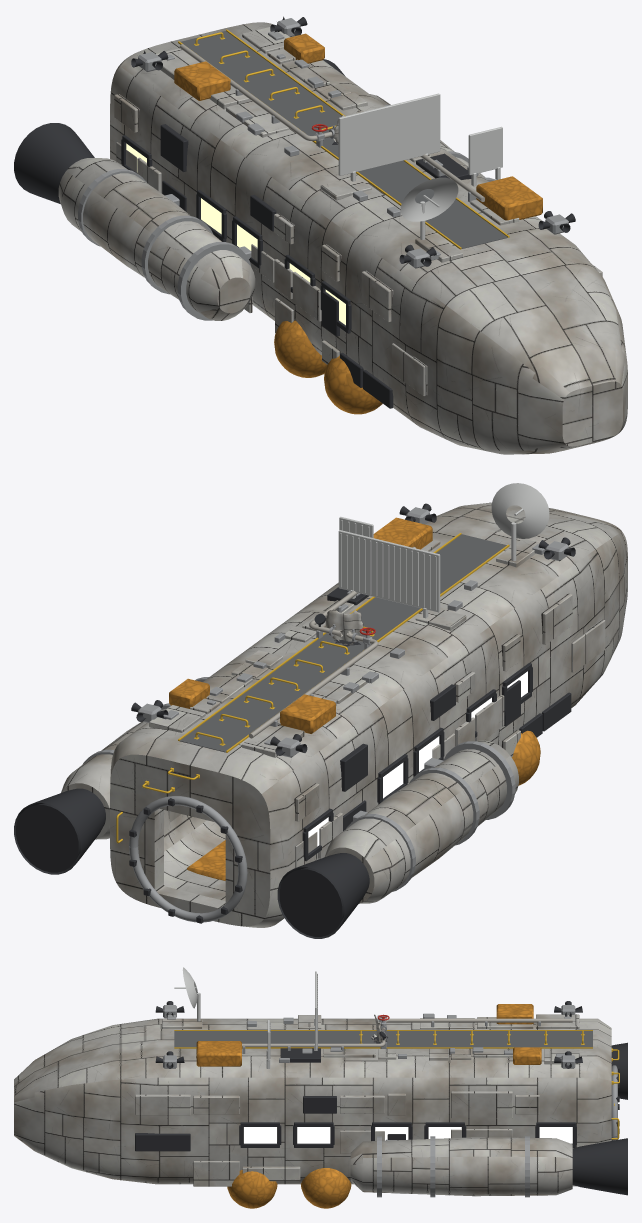
Rendered from r1_ext.glb.
The picture shows the model from 3 angles, top to bottom: view 1: azimuth 30°, elevation 25°; view 2: azimuth 150°, elevation 25°; view 3: azimuth 270°, elevation 25°; orthographic projection. The views are drawn at different scales.
Visible parts, largest first — view 1: ext_M_hull, ext_M_darkhull, ext_M_strip, ext_M_foil, cover, ext_M_steel, ext_M_rad, ext_M_pipe, ext_M_winglow, ext_M_rail; view 2: ext_M_hull, ext_M_darkhull, ext_M_strip, ext_M_steel, cover, ext_M_foil, ext_M_rad, ext_M_winglow, ext_M_pipe, ext_M_rail, shard; view 3: ext_M_hull, ext_M_darkhull, ext_M_strip, ext_M_foil, ext_M_steel, ext_M_winglow, ext_M_pipe, ext_M_rail, ext_M_rad.
Boxes of the visible parts, bbox=[...] form: ext_M_hull: bbox=[58, 22, 627, 454]; ext_M_darkhull: bbox=[14, 16, 575, 408]; ext_M_strip: bbox=[180, 31, 507, 248]; ext_M_foil: bbox=[174, 33, 542, 414]; cover: bbox=[338, 93, 440, 181]; ext_M_steel: bbox=[78, 18, 568, 320]; ext_M_rad: bbox=[400, 126, 502, 239]; ext_M_pipe: bbox=[179, 44, 484, 201]; ext_M_winglow: bbox=[126, 143, 345, 325]; ext_M_rail: bbox=[178, 29, 509, 249]; ext_M_hull: bbox=[61, 502, 627, 927]; ext_M_darkhull: bbox=[14, 503, 575, 938]; ext_M_strip: bbox=[180, 534, 506, 752]; ext_M_steel: bbox=[82, 507, 568, 922]; cover: bbox=[338, 530, 440, 618]; ext_M_foil: bbox=[169, 517, 540, 880]; ext_M_rad: bbox=[339, 483, 549, 561]; ext_M_winglow: bbox=[308, 671, 527, 846]; ext_M_pipe: bbox=[248, 547, 415, 738]; ext_M_rail: bbox=[178, 533, 509, 752]; shard: bbox=[325, 609, 363, 641]; ext_M_hull: bbox=[14, 1014, 611, 1196]; ext_M_darkhull: bbox=[135, 1001, 627, 1195]; ext_M_strip: bbox=[174, 1031, 592, 1047]; ext_M_foil: bbox=[196, 1004, 541, 1208]; ext_M_steel: bbox=[163, 1005, 617, 1197]; ext_M_winglow: bbox=[244, 1127, 572, 1143]; ext_M_pipe: bbox=[242, 1018, 572, 1047]; ext_M_rail: bbox=[174, 1030, 592, 1048]; ext_M_rad: bbox=[174, 967, 270, 1068].
Size of the model in its own units: 6.98 by 5.18 by 14.95.
11 materials, 2 textured.
